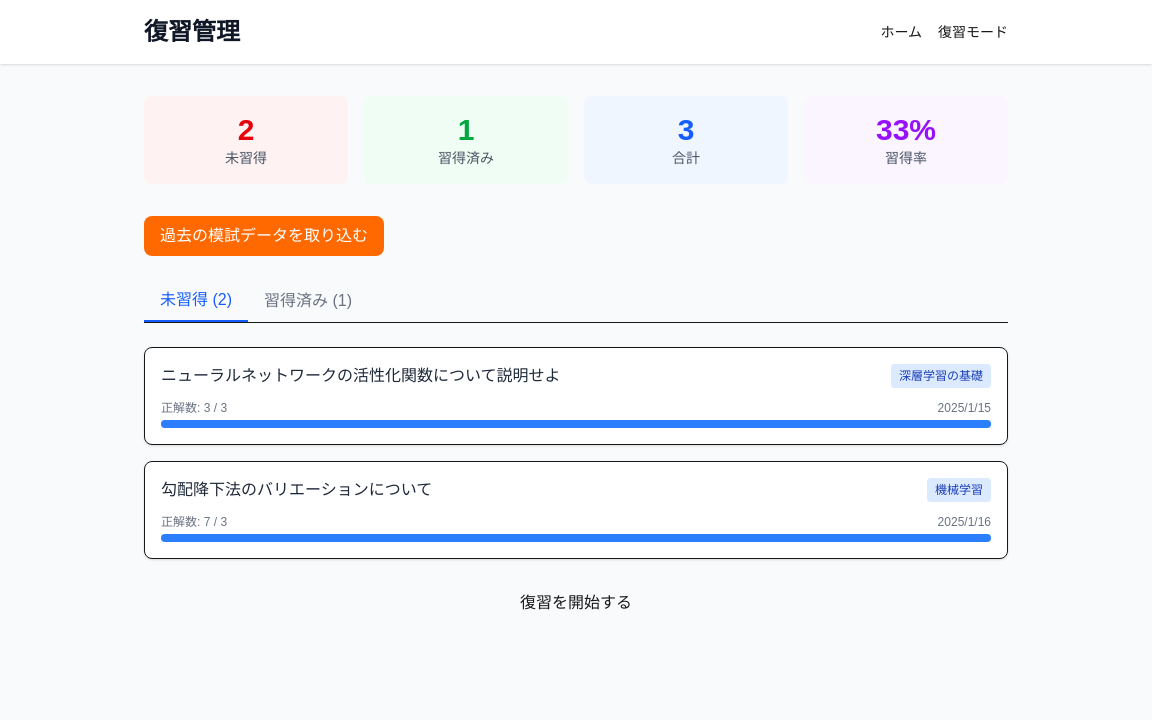
it: ReviewDashboardPage › バックフィルボタンが動作する
What coordinates should you click on to do the following:
click the button "過去の模試データを取り込む"
I would click on:
 (264, 236)
Its box is [144,216,384,256].
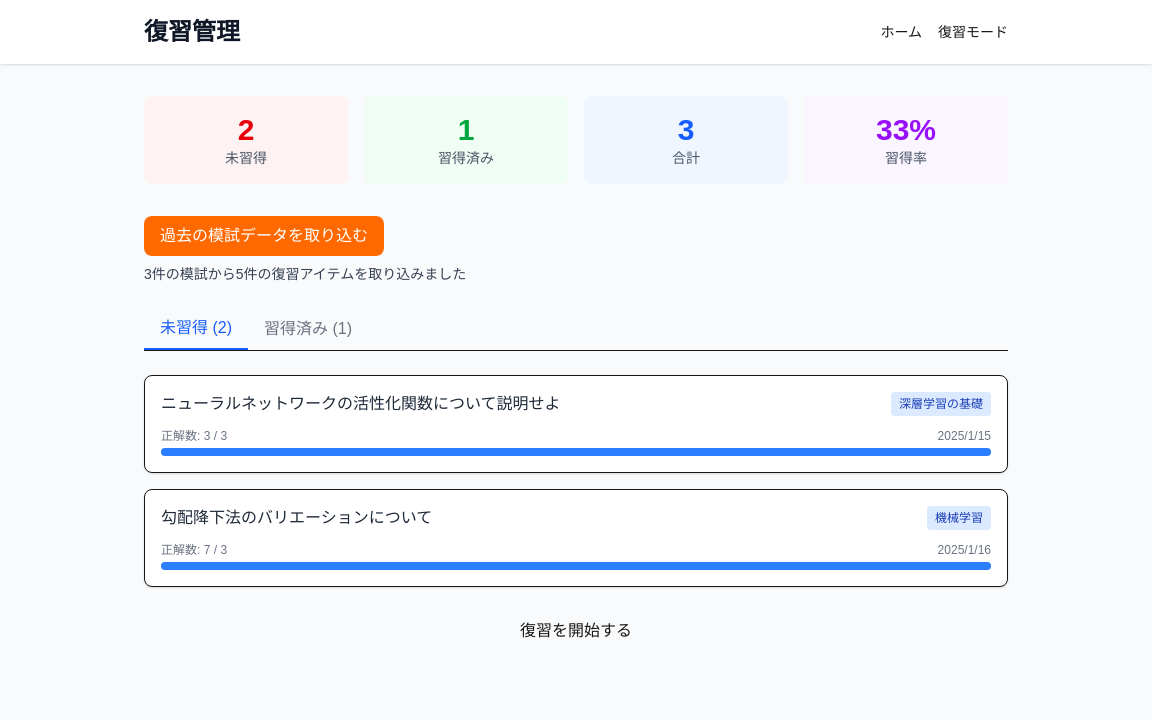
Expected: the text "3件の模試から5件の復習アイテムを取り込みました" is shown, [144,266,466,282]
